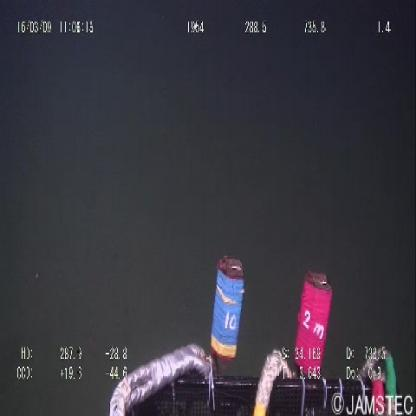Rov: (107, 253, 402, 411)
